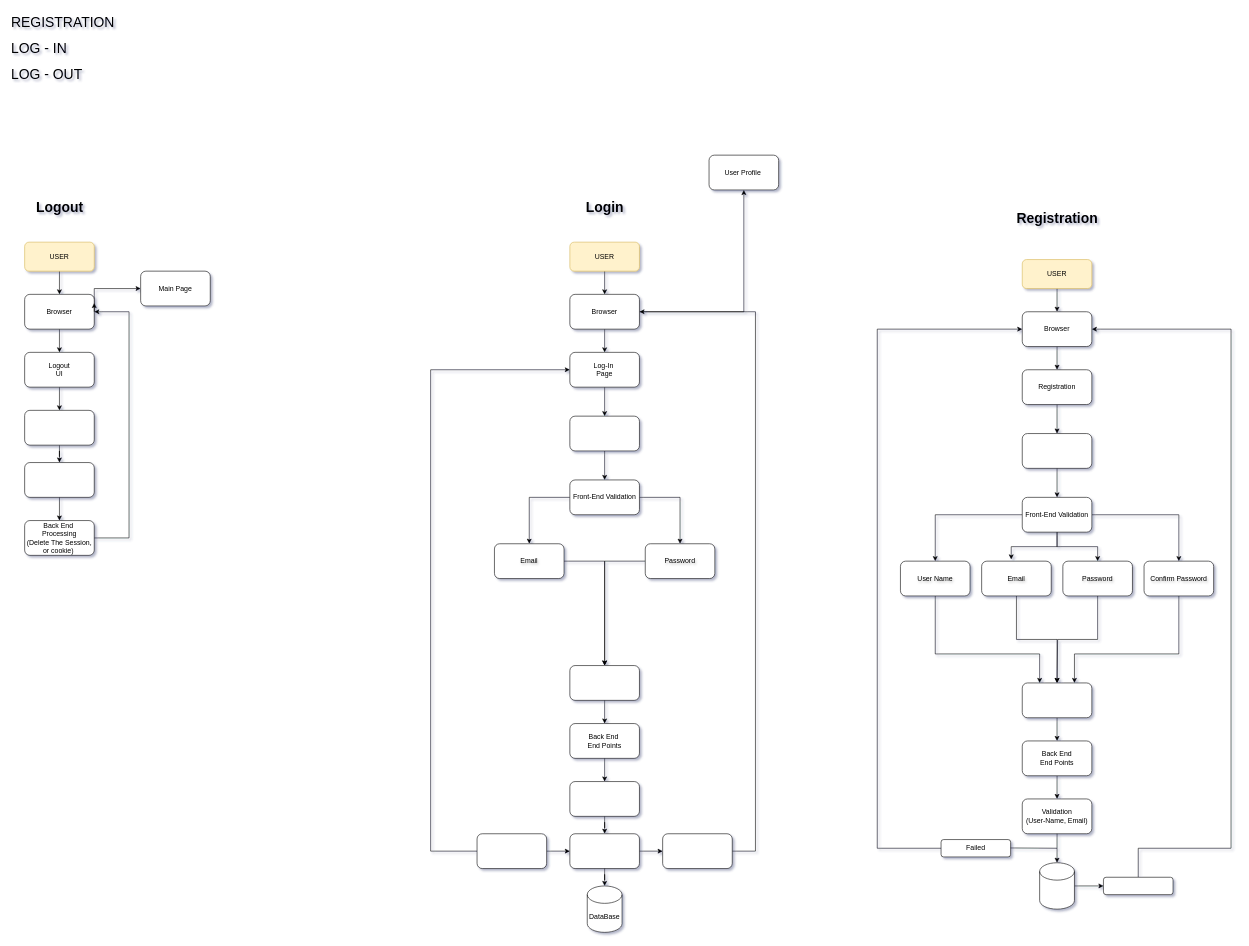
This 1249x946 diagram has some shape labels left out. The centre of each missing label's shape, as x and y in pixels:
"API Request" goes at [59,479].
"API Request For User Data" goes at [1057,700].
"API Request Including User Data" goes at [604,682].
"Back End Processing" goes at [604,798].
"Compare With Database, if Done Then Pass Authentication Token" goes at [604,851].
"Failed, Then Redirect to the Login Page" goes at [511,851].
"Front-End Request Of Logout" goes at [59,427].
"Success" goes at [1138,886].
"Success,Then Pass Authentication Token With Active Session" goes at [697,851].
"UI Input" goes at [1057,450].
"User Data" goes at [1056,885].
"User Input" goes at [604,433].
